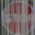Stop: (2, 4, 34, 29)
